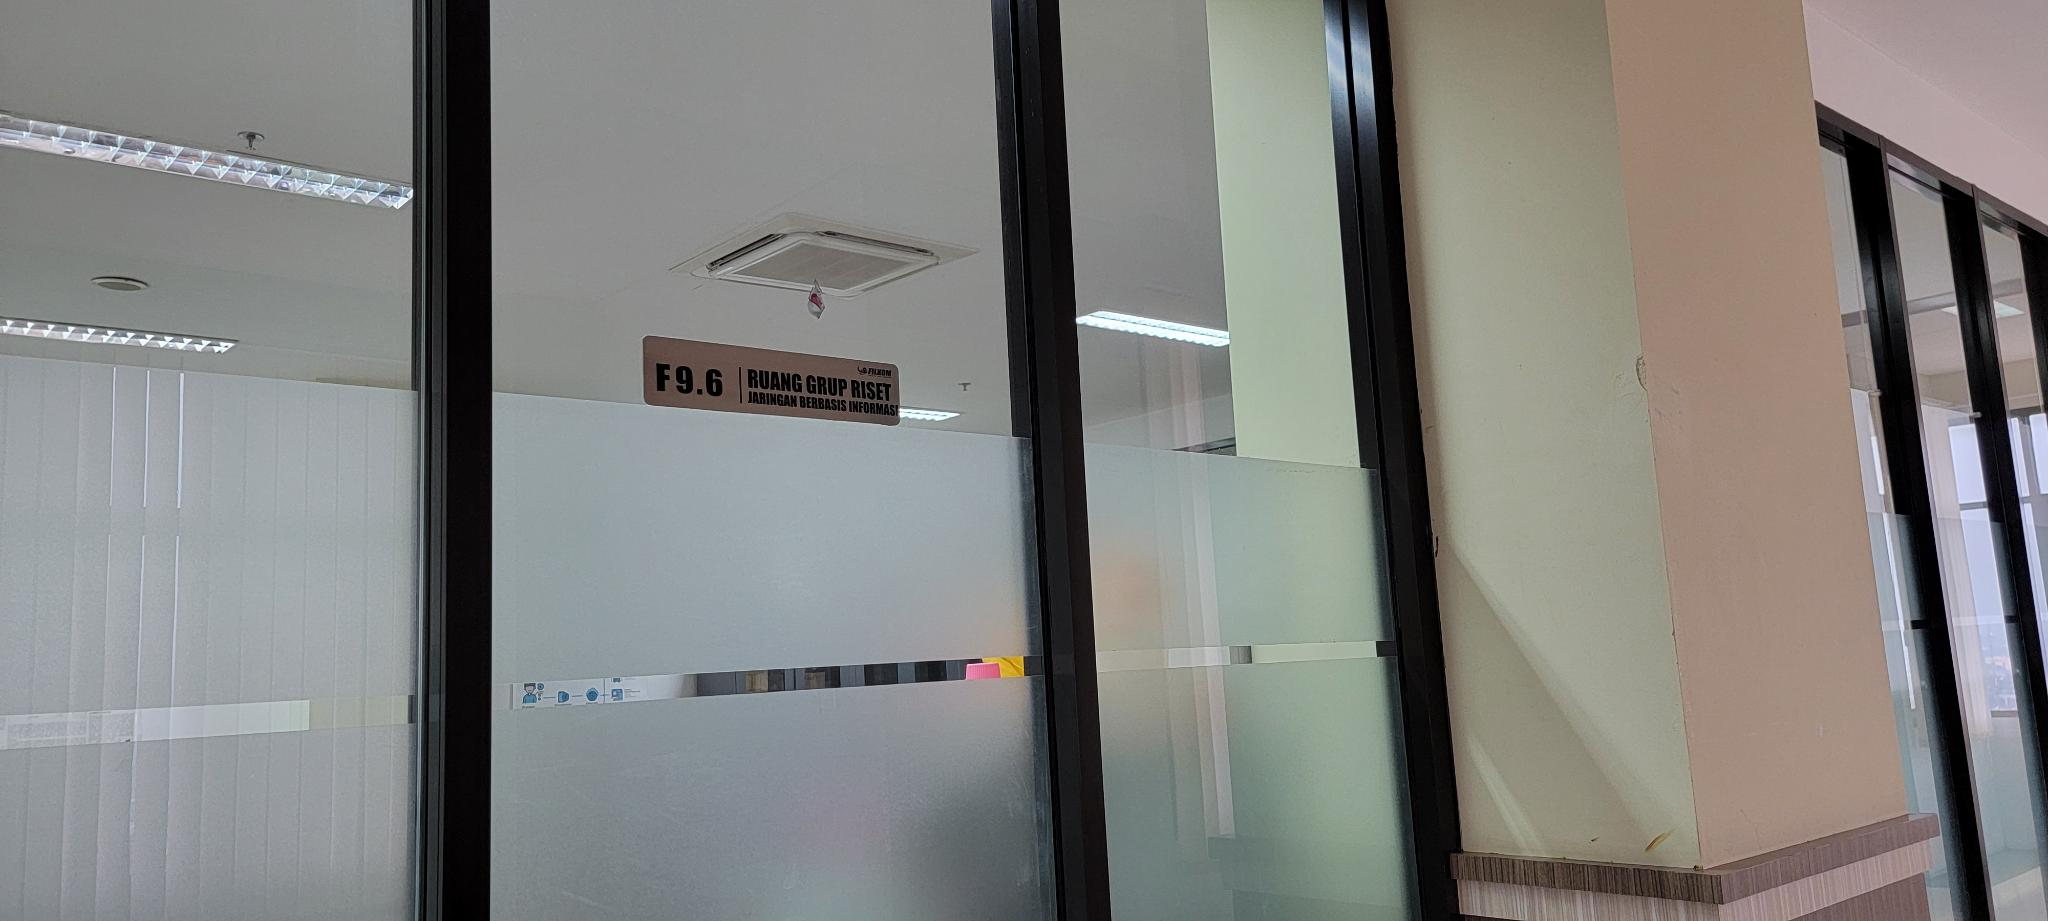plate: (641, 334, 903, 430)
